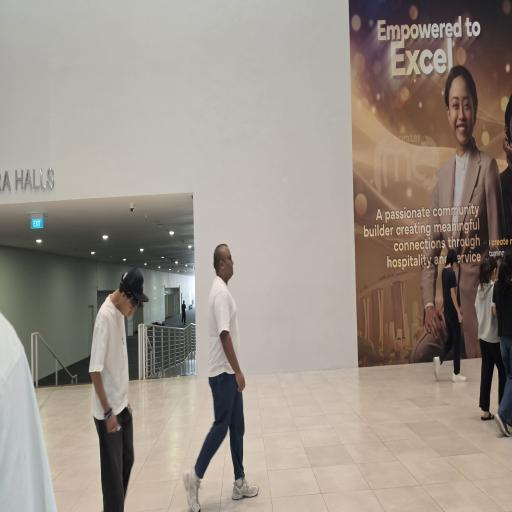person_right: (81, 245, 147, 512), (190, 236, 254, 510), (471, 256, 501, 414), (430, 244, 464, 383), (495, 255, 512, 443)
